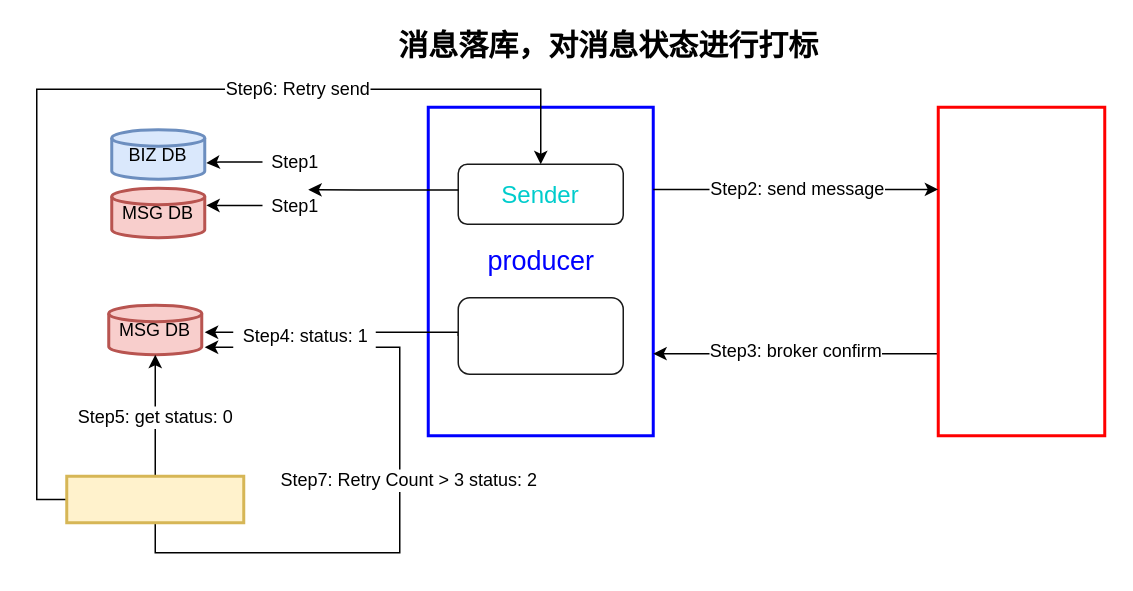
This 1133x591 diagram has some shape labels left out. The shapes that lost their labels are listed below. From the top down, each one's centre as x and y in pixels, then its label:
At point (1021, 270): "MQ Broker".
At point (540, 335): "Confirm Listener".
At point (154, 499): "分布式定时任务".
